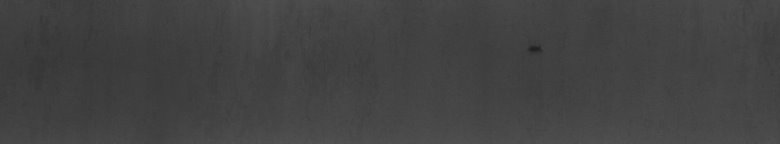fi: (528, 40, 542, 60)
